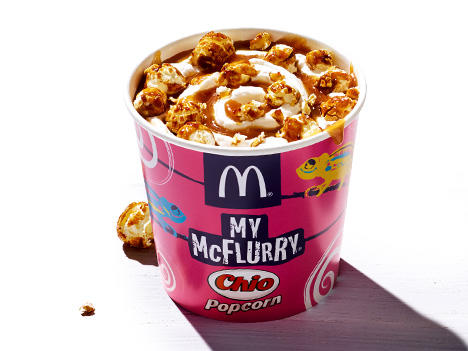mcdonalds: (212, 162, 272, 196)
